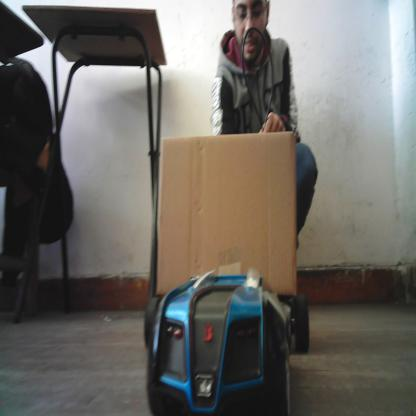LeadTruck: (145, 133, 314, 364)
